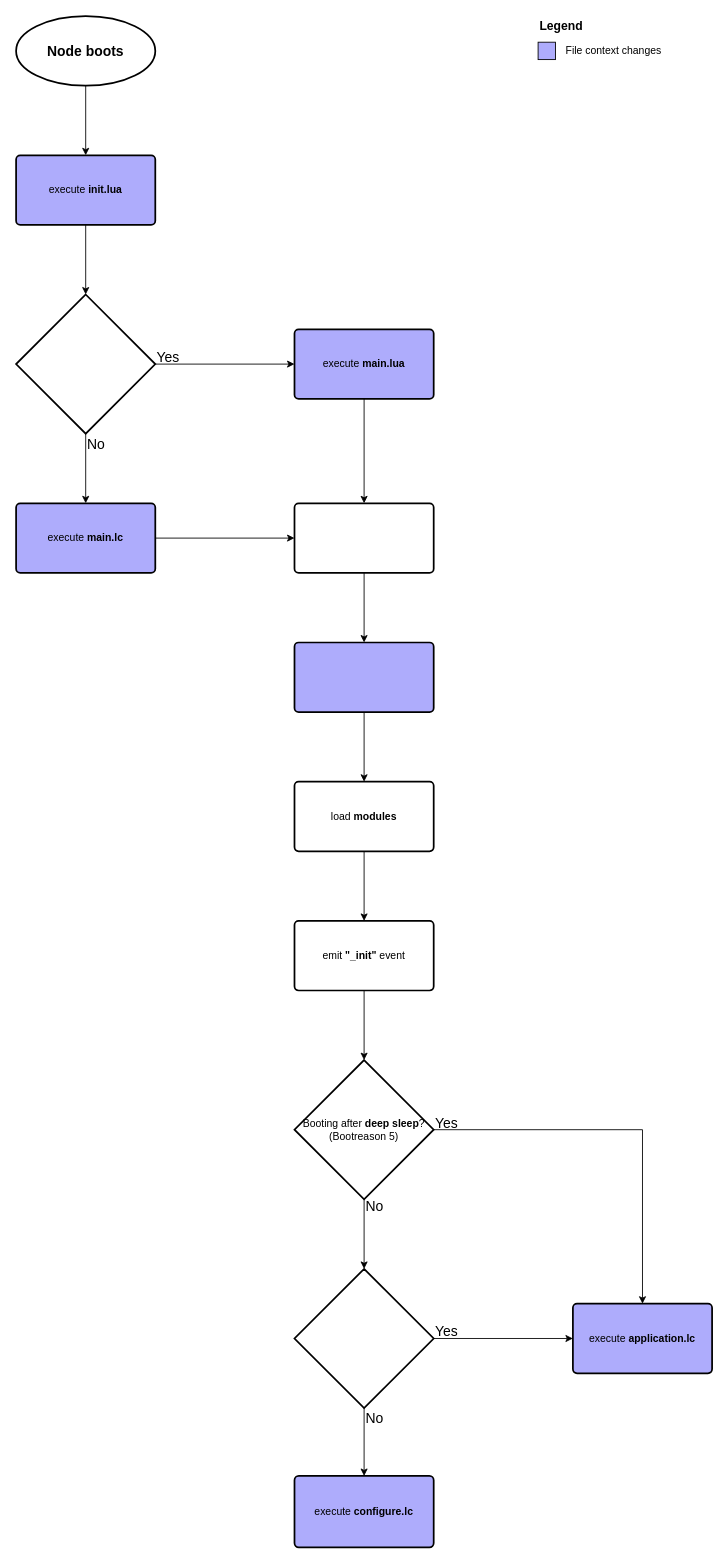
Some shapes in this 727 by 1563 pixel diagram are drawn without their labels. Each missing label, with the centre of its shape:
"compile and remove all files matching *.lua" goes at point (363, 537).
"Does the file main.lua exist?" goes at point (85, 363).
"execute kalmon.lc" goes at point (363, 677).
"Is pin 4 held LOW ? (GPIO 2)" goes at point (363, 1338).
